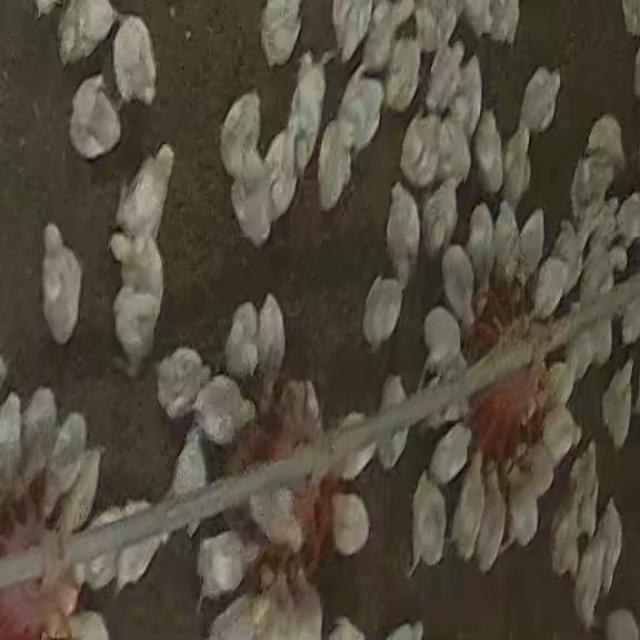chicken: (38, 219, 84, 351), (402, 470, 451, 584), (194, 528, 259, 612), (65, 72, 124, 163), (108, 12, 164, 106), (192, 377, 260, 449), (381, 179, 421, 289), (449, 448, 483, 567), (255, 292, 287, 418), (249, 484, 304, 556), (419, 306, 471, 382), (359, 274, 408, 354), (422, 171, 462, 264), (375, 374, 412, 470), (420, 39, 468, 109), (475, 452, 503, 570), (516, 62, 563, 132), (328, 489, 371, 564), (474, 112, 505, 200)
